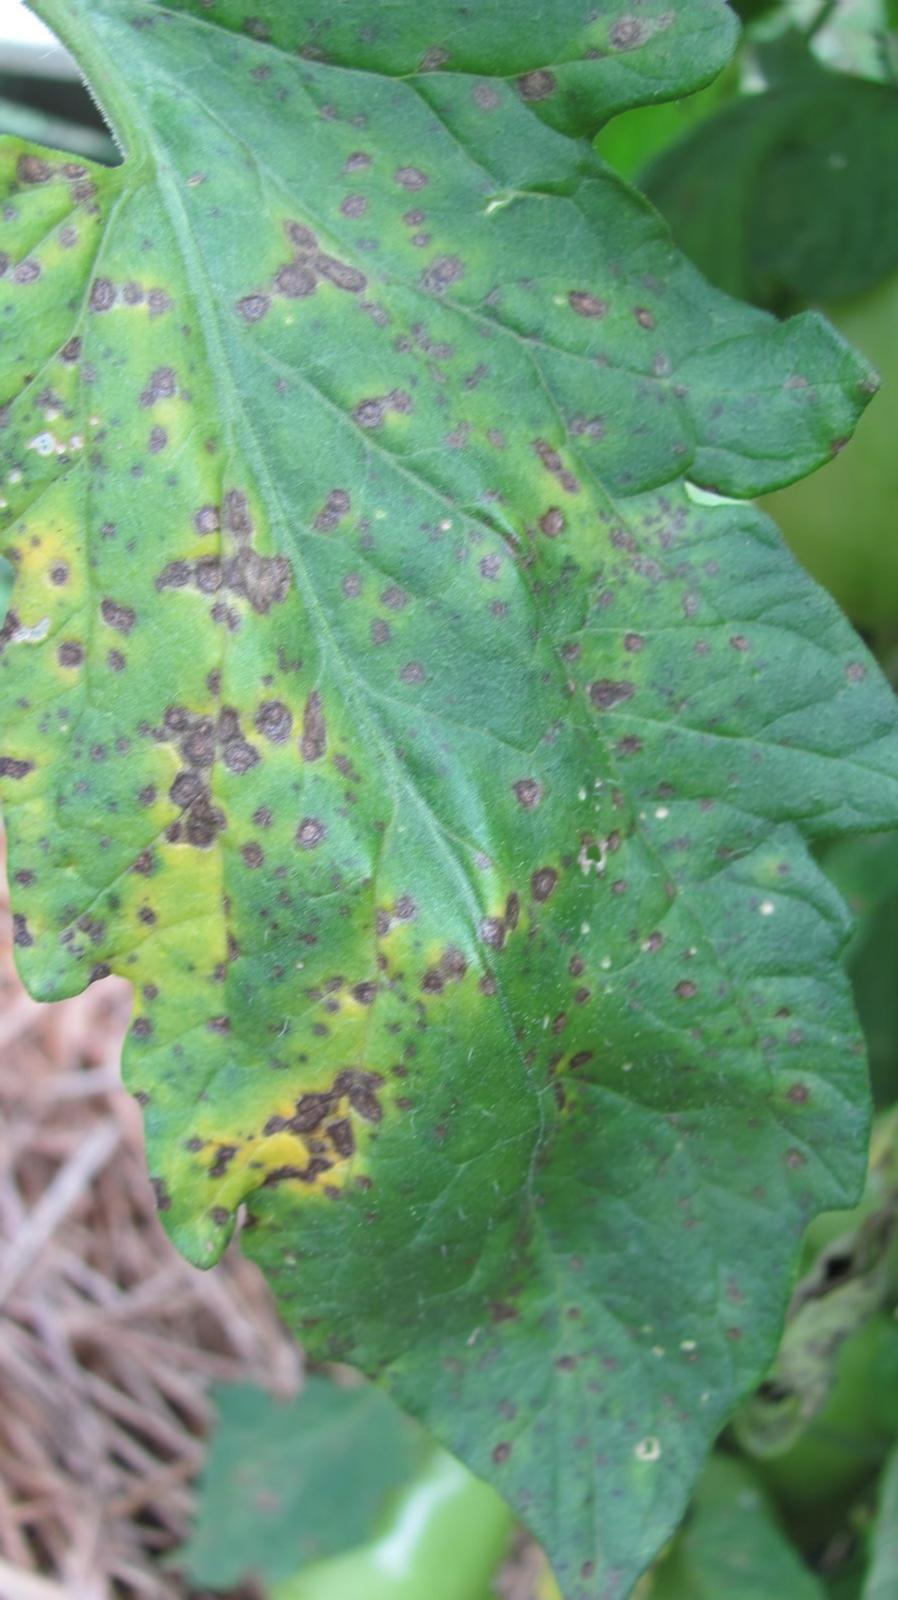Tomato Septoria leaf spot: (38, 37, 873, 1546)
